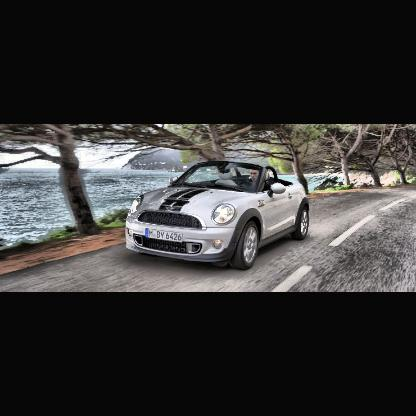MINI Cooper Roadster Convertible 2012: (126, 161, 310, 270)
